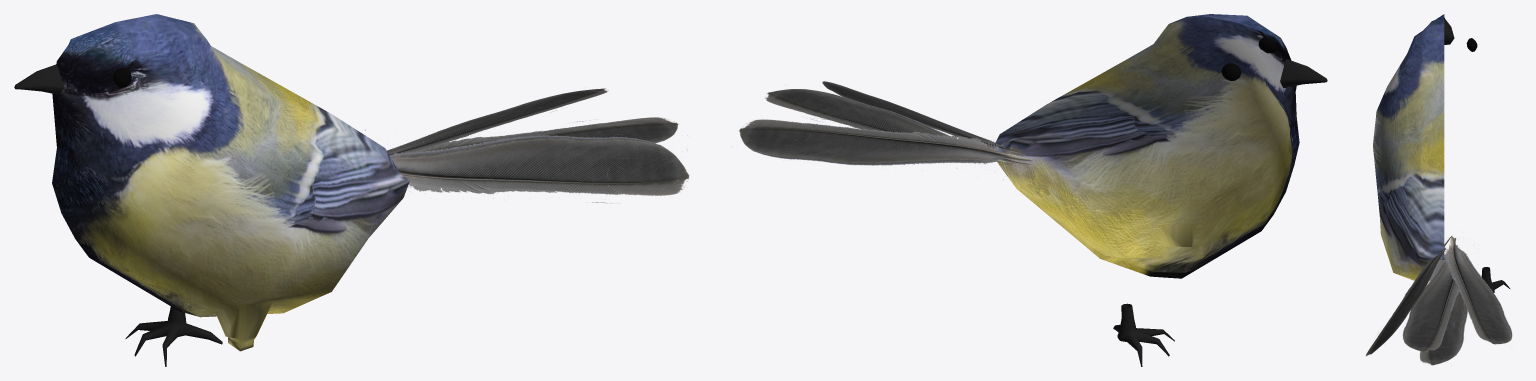
The model's file is Bird.glb.
3 renders of one model, left to right at view 1: azimuth 30°, elevation 25°; view 2: azimuth 150°, elevation 25°; view 3: azimuth 270°, elevation 25°, orthographic. The views are drawn at different scales.
Parts seen in each view (by area): view 1: body2, tail_feather1, tail_feather2, tail_feather5, legs, beak; view 2: body2, tail_feather2, tail_feather5, tail_feather1, legs, beak, eye; view 3: body2, tail_feather2, tail_feather5, tail_feather3, tail_feather1, legs, beak.
Boxes of the visible parts, x1,y1,x2,y2 form: body2: [52, 14, 409, 351]; tail_feather1: [365, 129, 689, 203]; tail_feather2: [387, 88, 608, 157]; tail_feather5: [392, 117, 687, 152]; legs: [125, 306, 222, 366]; beak: [14, 64, 64, 94]; body2: [993, 14, 1299, 278]; tail_feather2: [732, 118, 1032, 180]; tail_feather5: [765, 89, 1018, 162]; tail_feather1: [822, 81, 1025, 155]; legs: [1113, 303, 1174, 366]; beak: [1280, 59, 1327, 88]; eye: [1221, 36, 1275, 80]; body2: [1373, 14, 1444, 280]; tail_feather2: [1442, 236, 1512, 344]; tail_feather5: [1402, 245, 1468, 351]; tail_feather3: [1420, 238, 1478, 365]; tail_feather1: [1365, 236, 1451, 356]; legs: [1481, 267, 1510, 292]; beak: [1444, 17, 1454, 44].
Bounding box in the file's own units: 0.9675 × 0.5185 × 0.3167.
5 materials, 2 textured.
